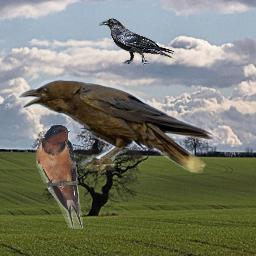Crow: (15, 75, 218, 173), (99, 18, 178, 66)
Swallow: (36, 124, 83, 229)
